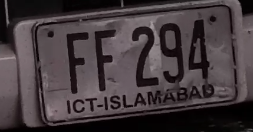FF294: (5, 3, 248, 125)
